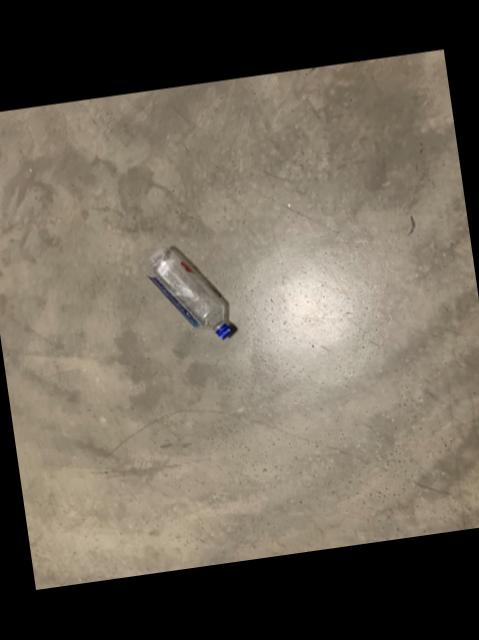plastic: (144, 246, 236, 338)
